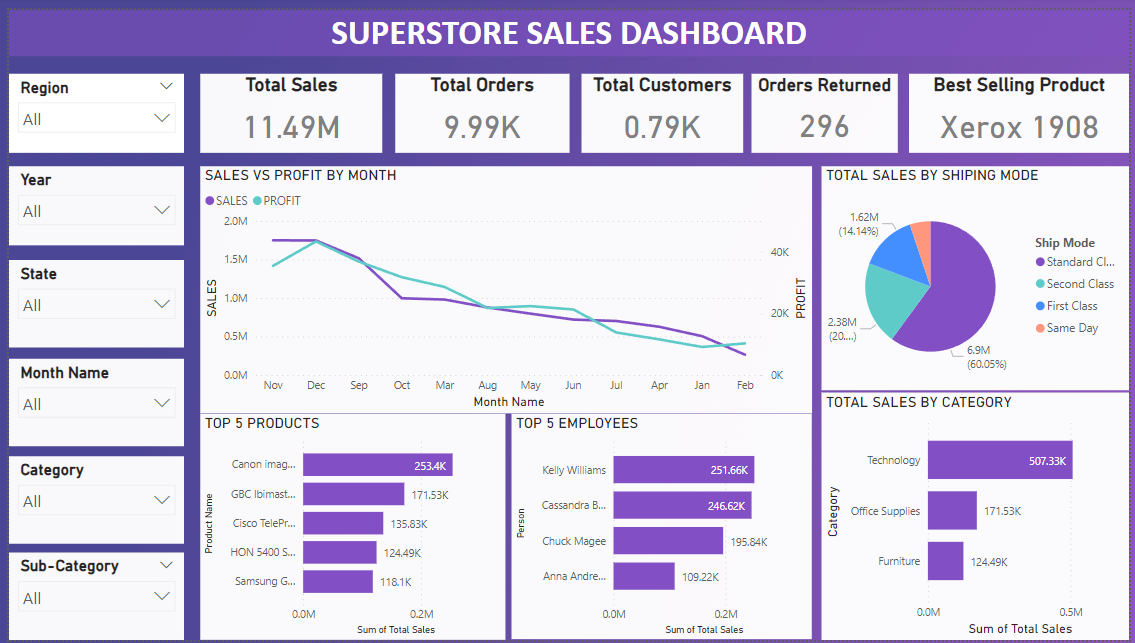

The page's visual inventory and layout, read from the dashboard file:
{"tool":"powerbi","page":{"name":"Page 1","canvas":[1280,720],"ordinal":0},"visuals":[{"type":"card","title":"Total Sales","fields":{"Values":["Orders.Total Sales"]},"box":[218,72.7,208.4,90.5],"z":0},{"type":"slicer","fields":{"Values":["Orders.Year"]},"box":[0,178.2,200.2,90.5],"z":1000},{"type":"slicer","fields":{"Values":["Orders.Month Name"]},"box":[0,399,200.2,100.1],"z":2000},{"type":"textbox","title":"SUPERSTORE SALES DASHBOARD","box":[0,0,1280,52.7],"z":3000},{"type":"clusteredBarChart","title":"TOP 5 PRODUCTS","fields":{"Category":["Orders.Product Name"],"Y":["Orders.Total Sales"]},"box":[218,462,349,258],"z":4000},{"type":"clusteredBarChart","title":"TOTAL SALES BY CATEGORY","fields":{"Y":["Orders.Total Sales"],"Category":["Orders.Category"]},"box":[928.2,437.4,352.4,283],"z":5000},{"type":"slicer","title":"SALES BY CATEGORY","fields":{"Values":["Orders.Region"]},"box":[0,72.7,200.2,90.5],"z":6000},{"type":"slicer","title":"SALES BY CATEGORY","fields":{"Values":["Orders.State"]},"box":[0,285.2,200.2,100.1],"z":7000},{"type":"card","title":"Total Orders","fields":{"Values":["Orders.Order ID"]},"box":[441.5,72.7,198.8,90.5],"z":8000},{"type":"slicer","fields":{"Values":["Orders.Sub-Category"]},"box":[0,619.7,200.2,100.1],"z":9000},{"type":"slicer","fields":{"Values":["Orders.Category"]},"box":[0,510,200.2,100.1],"z":10000},{"type":"card","title":"Total Customers","fields":{"Values":["Orders.Customer Name"]},"box":[654,72.7,185.1,90.5],"z":11000},{"type":"card","title":"Best Selling Product","fields":{"Values":["Orders.Best Selling Product"]},"box":[1028.3,72.7,252.3,90.5],"z":13000},{"type":"pieChart","title":"TOTAL SALES BY SHIPING MODE","fields":{"Category":["Orders.Ship Mode"],"Y":["Orders.Total Sales"]},"box":[928.2,178.2,352.4,256],"z":14000},{"type":"lineChart","title":"SALES VS PROFIT BY MONTH","fields":{"Y":["Orders.Total Sales"],"Category":["Orders.Month Name"],"Y2":["Orders.Profit"]},"box":[218,178.2,699.2,282.4],"z":15000},{"type":"card","title":"Orders Returned","fields":{"Values":["Returns.Returned"]},"box":[848.7,72.7,167.3,90.5],"z":16000},{"type":"clusteredBarChart","title":"TOP 5 EMPLOYEES","fields":{"Y":["Orders.Total Sales"],"Category":["People.Person"]},"box":[574.5,462,343,257.8],"z":18000}]}

Visuals, with their boxes in screenshot pixels (x1, y1, x2, y2), scaled from the page's 1280x720 canvas onto the 1135x643 screenshot:
"Total Sales" card: rect(193, 65, 378, 146)
slicer - Orders.Year: rect(0, 159, 178, 240)
slicer - Orders.Month Name: rect(0, 356, 178, 446)
"SUPERSTORE SALES DASHBOARD" textbox: rect(0, 0, 1134, 47)
"TOP 5 PRODUCTS" clusteredBarChart: rect(193, 413, 503, 642)
"TOTAL SALES BY CATEGORY" clusteredBarChart: rect(823, 391, 1134, 642)
"SALES BY CATEGORY" slicer: rect(0, 65, 178, 146)
"SALES BY CATEGORY" slicer: rect(0, 255, 178, 344)
"Total Orders" card: rect(391, 65, 568, 146)
slicer - Orders.Sub-Category: rect(0, 553, 178, 642)
slicer - Orders.Category: rect(0, 455, 178, 545)
"Total Customers" card: rect(580, 65, 744, 146)
"Best Selling Product" card: rect(912, 65, 1134, 146)
"TOTAL SALES BY SHIPING MODE" pieChart: rect(823, 159, 1134, 388)
"SALES VS PROFIT BY MONTH" lineChart: rect(193, 159, 813, 411)
"Orders Returned" card: rect(753, 65, 901, 146)
"TOP 5 EMPLOYEES" clusteredBarChart: rect(509, 413, 814, 642)
